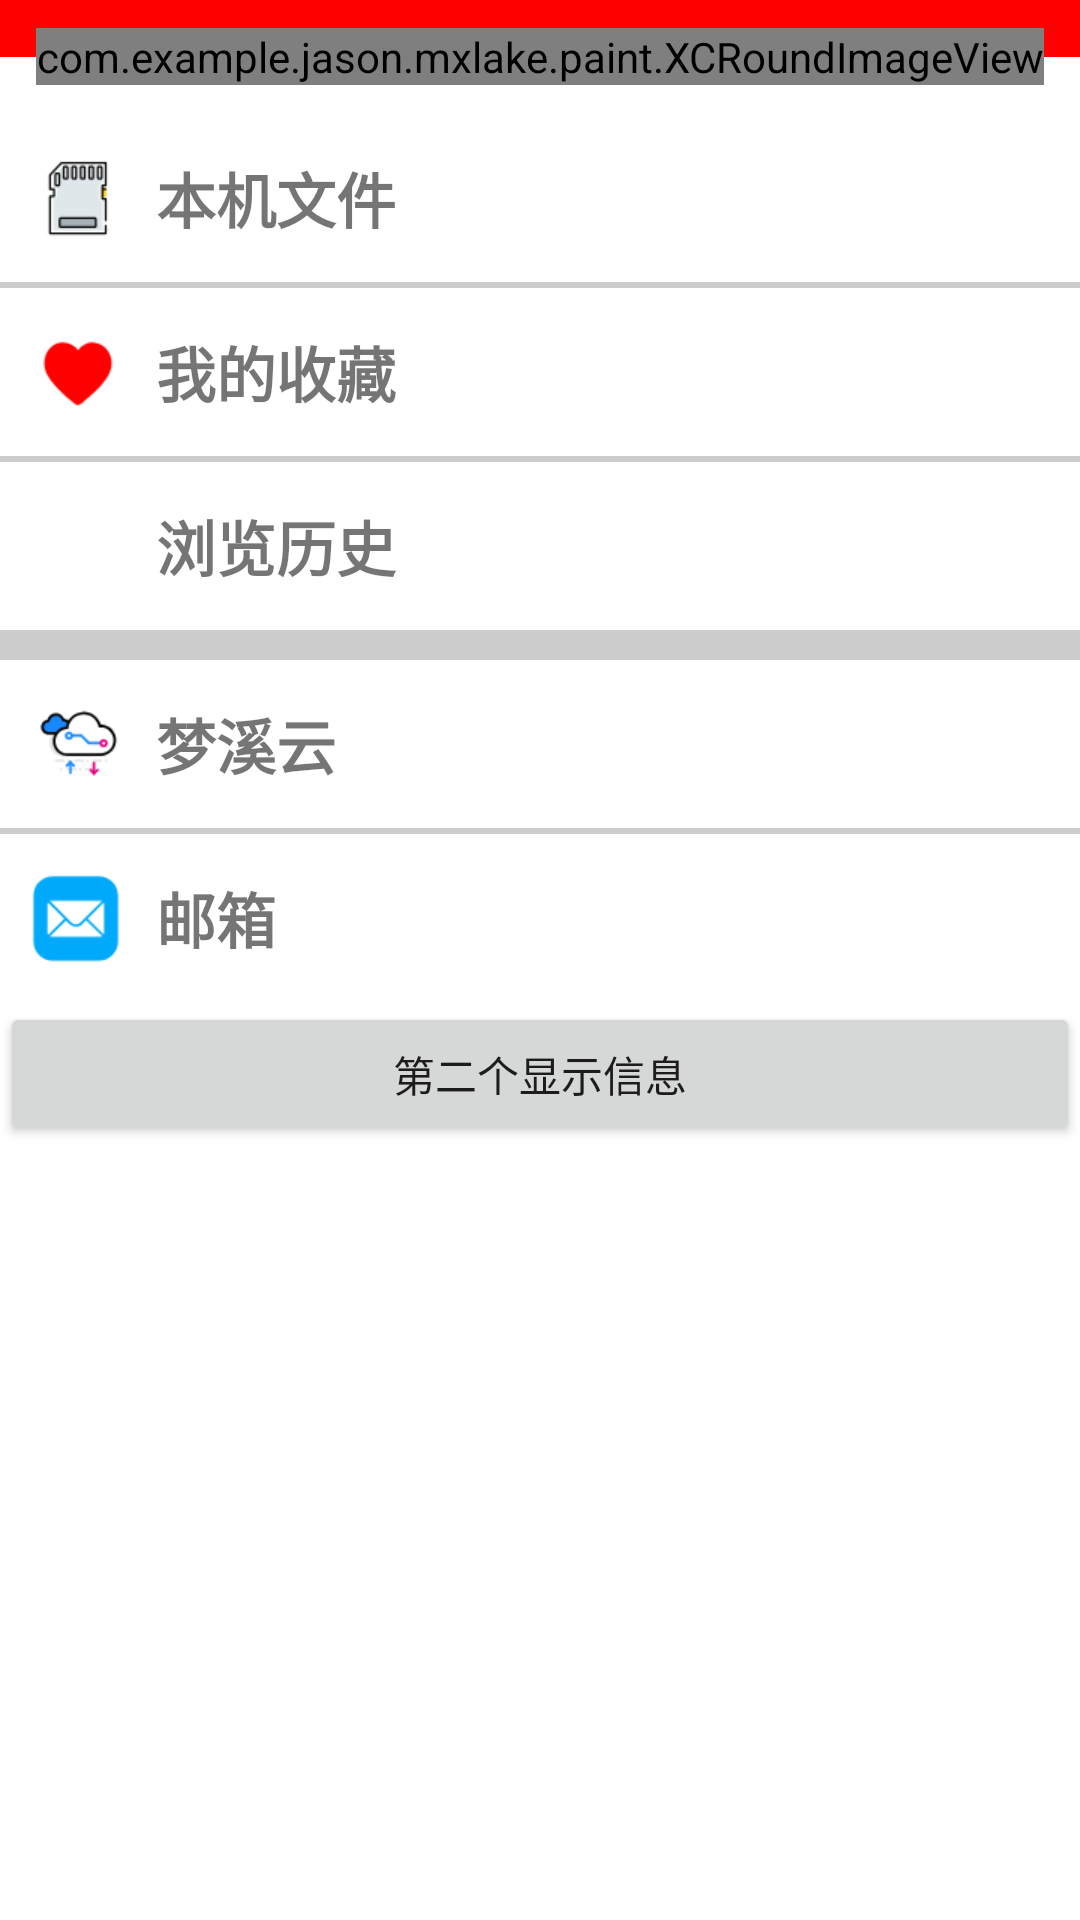

Point at icon controls on the screen. Image size 1080x1920, points as (x=x, y=y).
cloud: (x=78, y=743)
email: (x=75, y=918)
file: (x=78, y=198)
love: (x=78, y=373)
